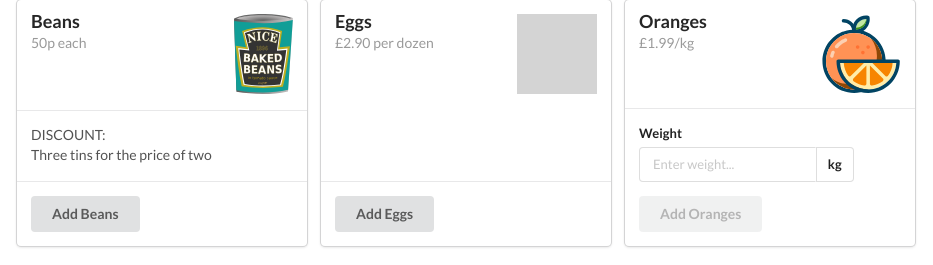
Scenario: activates the Add Oranges button on a non-zero value
Expected: the button "Add Oranges" is disabled, [639,196,762,232]
Type "23" into the field with placeholder "Enter weight..." at (728, 165), box [639,147,816,182]
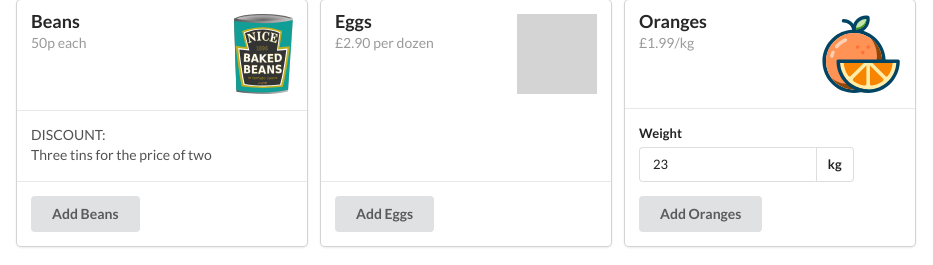
Result: the button "Add Oranges" is enabled at [639,196,762,232]
